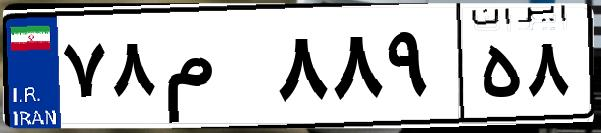5: (475, 38, 525, 113)
7: (57, 26, 110, 100)
8: (270, 28, 330, 110), (330, 28, 385, 110), (525, 38, 570, 115), (110, 28, 158, 98)
9: (385, 28, 445, 110)
م: (158, 20, 270, 120)
